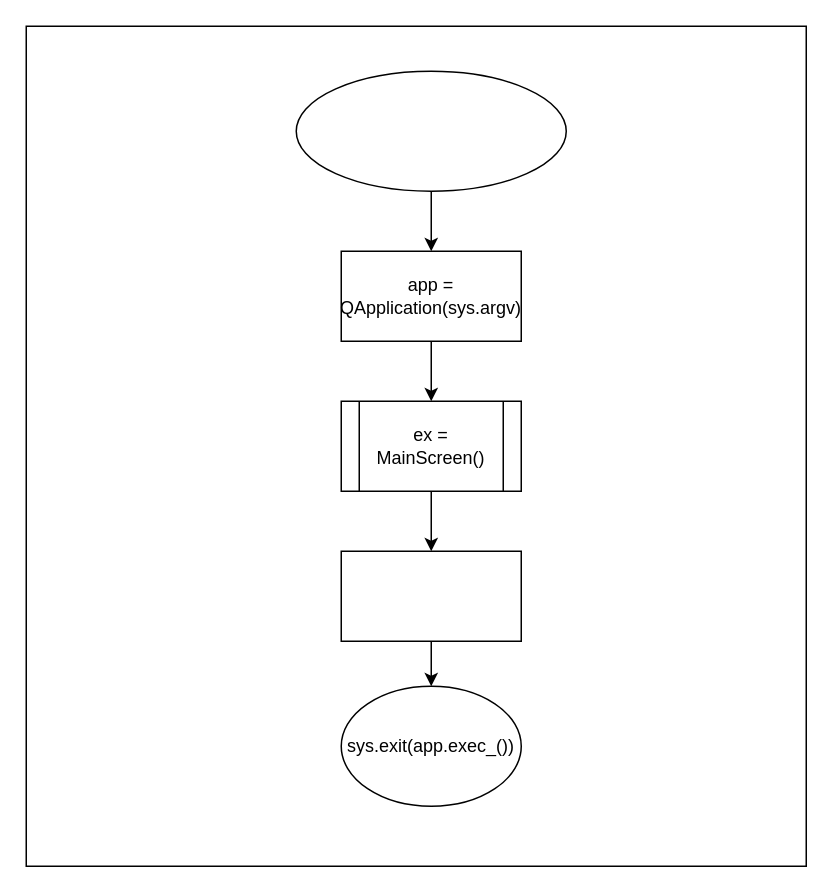
Some shapes in this 833 by 893 pixel diagram are drawn without their labels. The box of each missing label's shape, as (x1, y1, x2, y2) in pixels:
__name__ == '__main__': (295, 70, 566, 191)
ex.show(): (340, 550, 521, 641)
